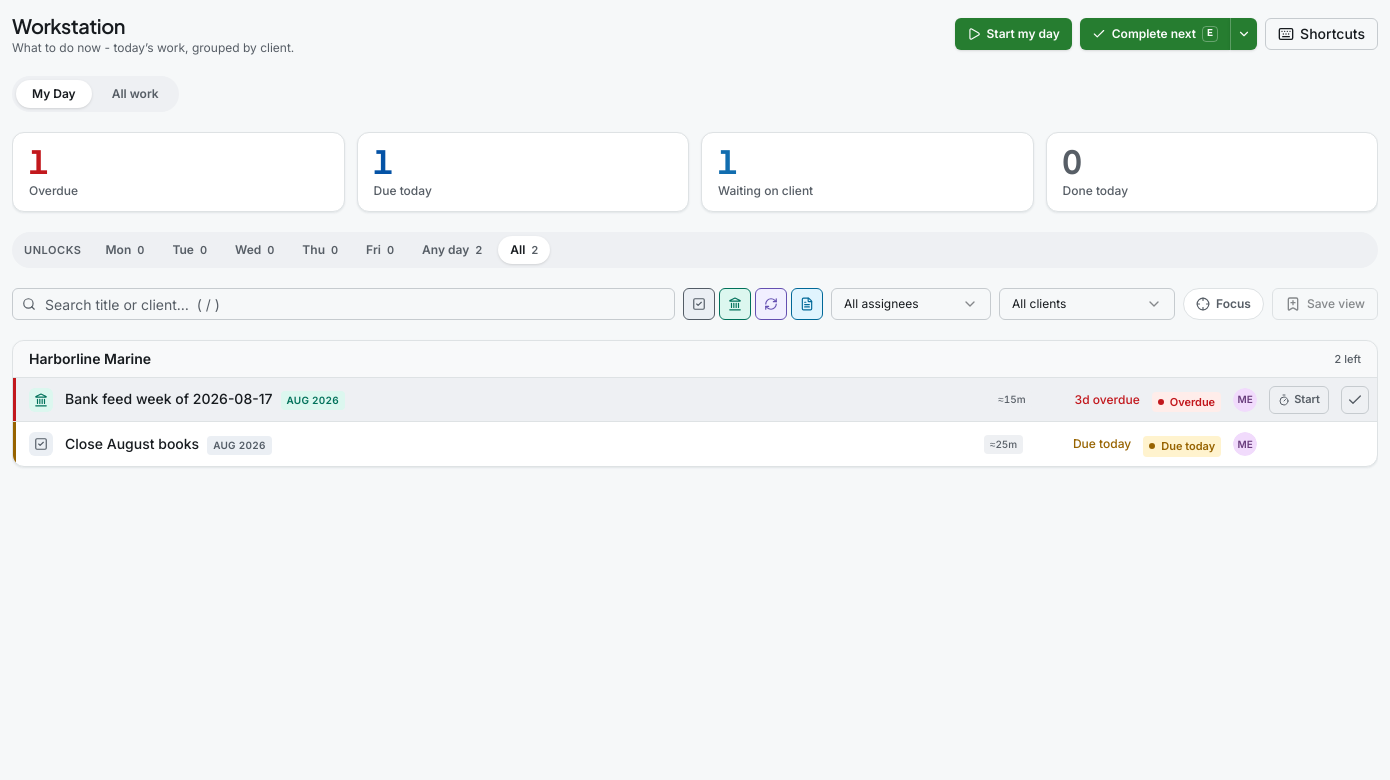
Test: WorkstationQueue - full queue › narrows the list when a bucket tab is selected
Step 1. Click the tab with test id "view-tab-queue" → (135, 94), box [96,80,175,108]
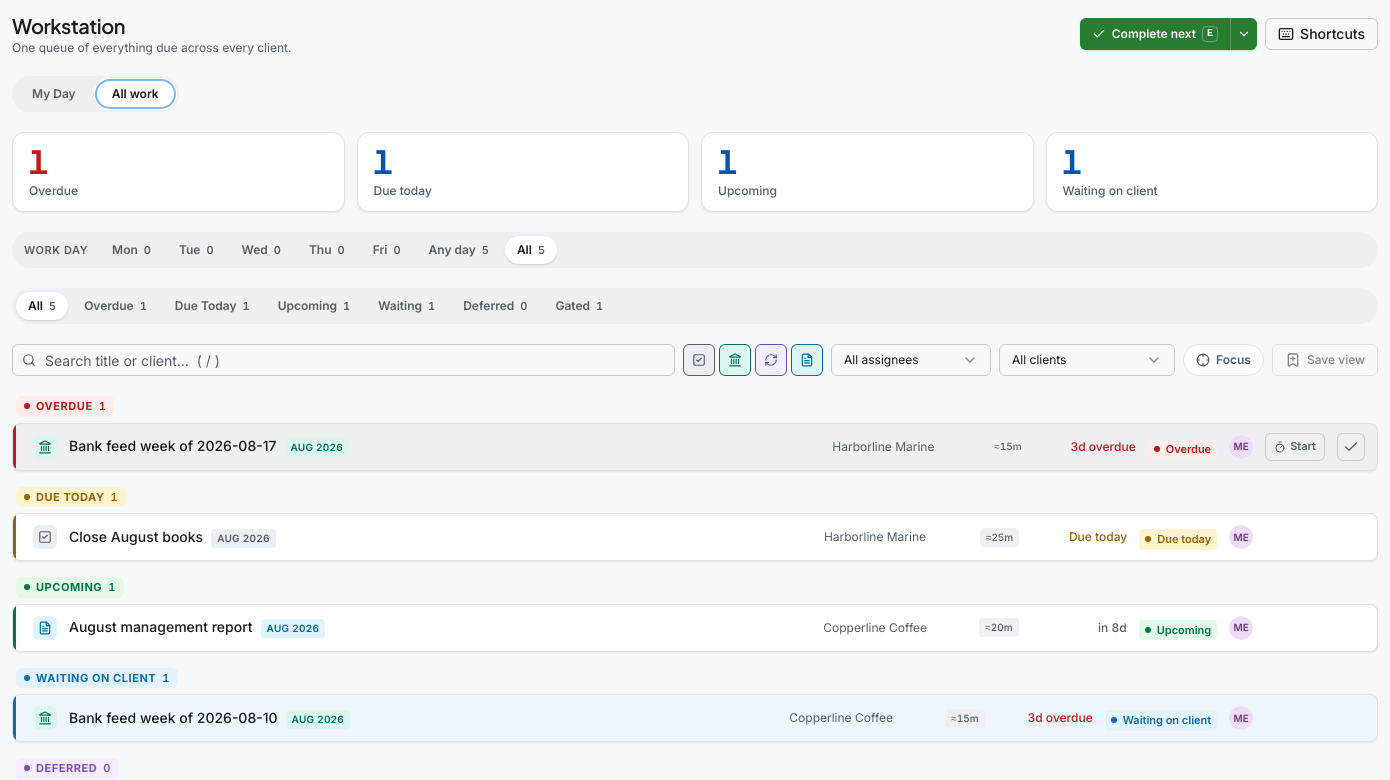
Step 2. Click the tab "Due Today1" → (212, 306), box [163,292,262,320]
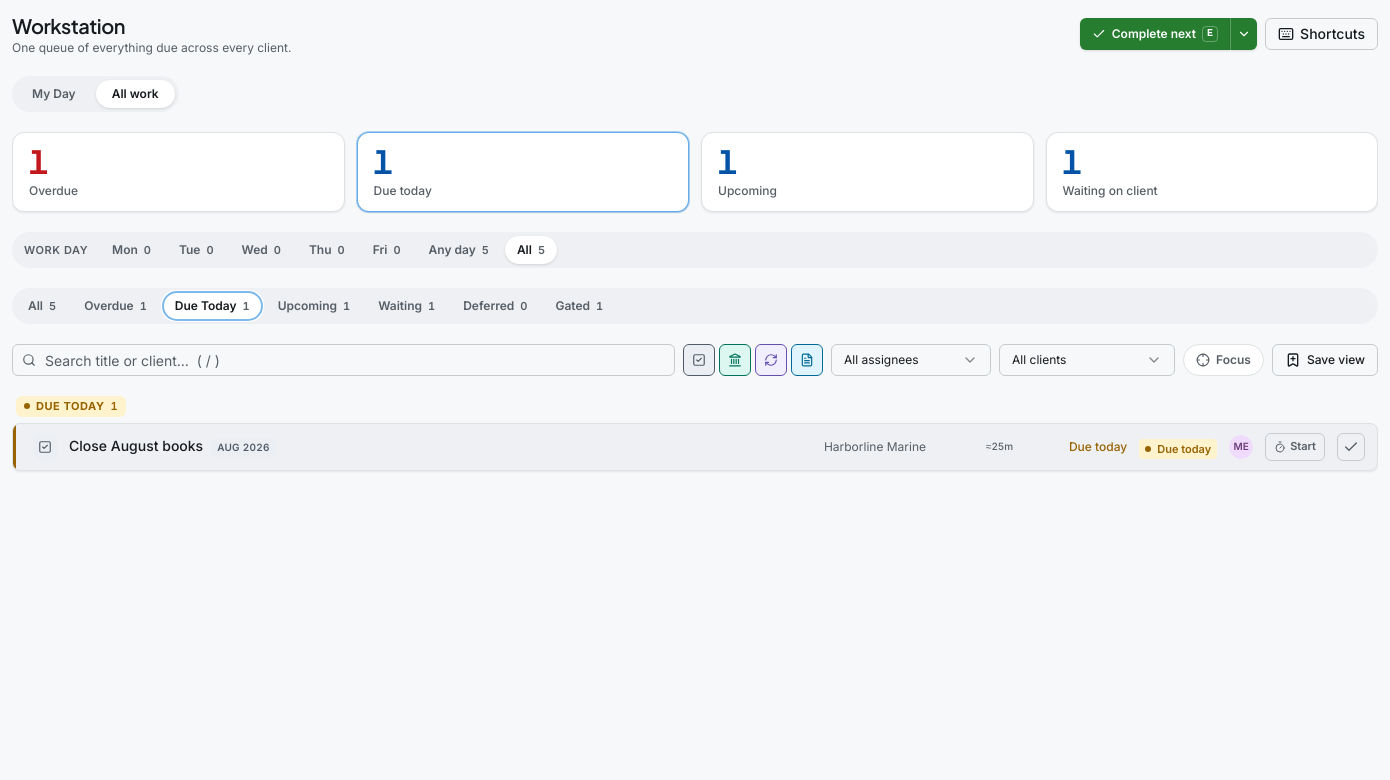
Expected: the text "Close August books" is shown, [69,436,203,456]
Expected: the text "Bank feed week of 2026-08-17" is gone
Expected: the text "August management report" is gone
